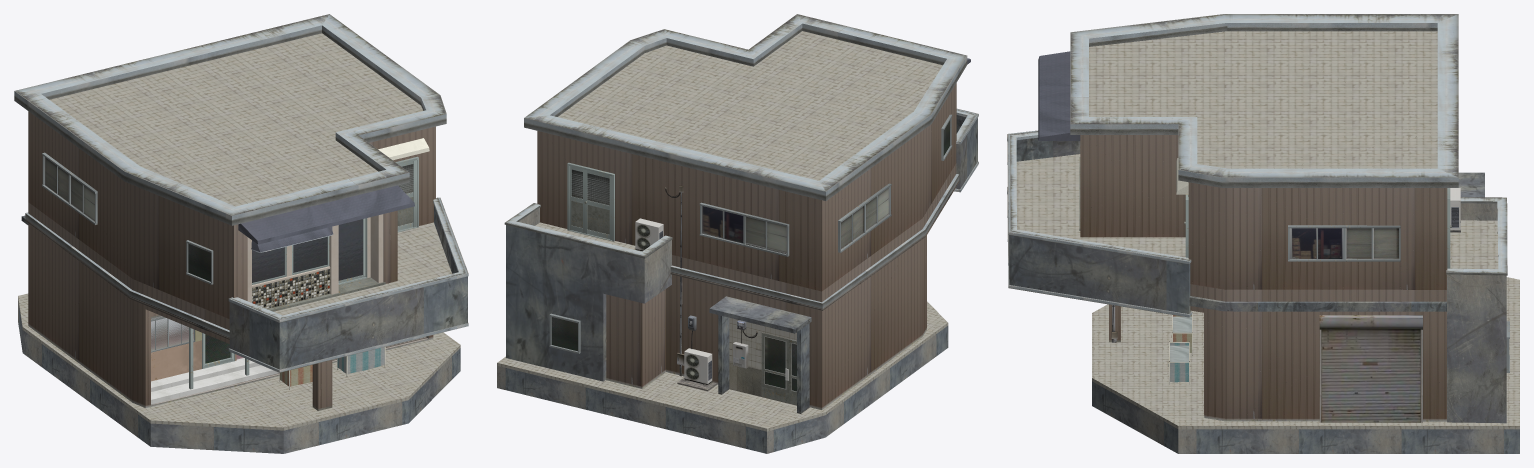
File: corner_shop_2.fbx
3 views of the same model, side by side, from view 1: azimuth 30°, elevation 25°; view 2: azimuth 150°, elevation 25°; view 3: azimuth 270°, elevation 25° (orthographic). The views are drawn at different scales.
Parts seen in each view (by area): view 1: corner_shop_2; view 2: corner_shop_2; view 3: corner_shop_2.
Boxes of the visible parts, x1,y1,x2,y2 form: corner_shop_2: (14,14,468,453); corner_shop_2: (497,14,978,453); corner_shop_2: (1007,14,1519,453).
Size of the model in its own units: 1236 by 1638 by 976.
Materials: 13 (13 with a texture image).
